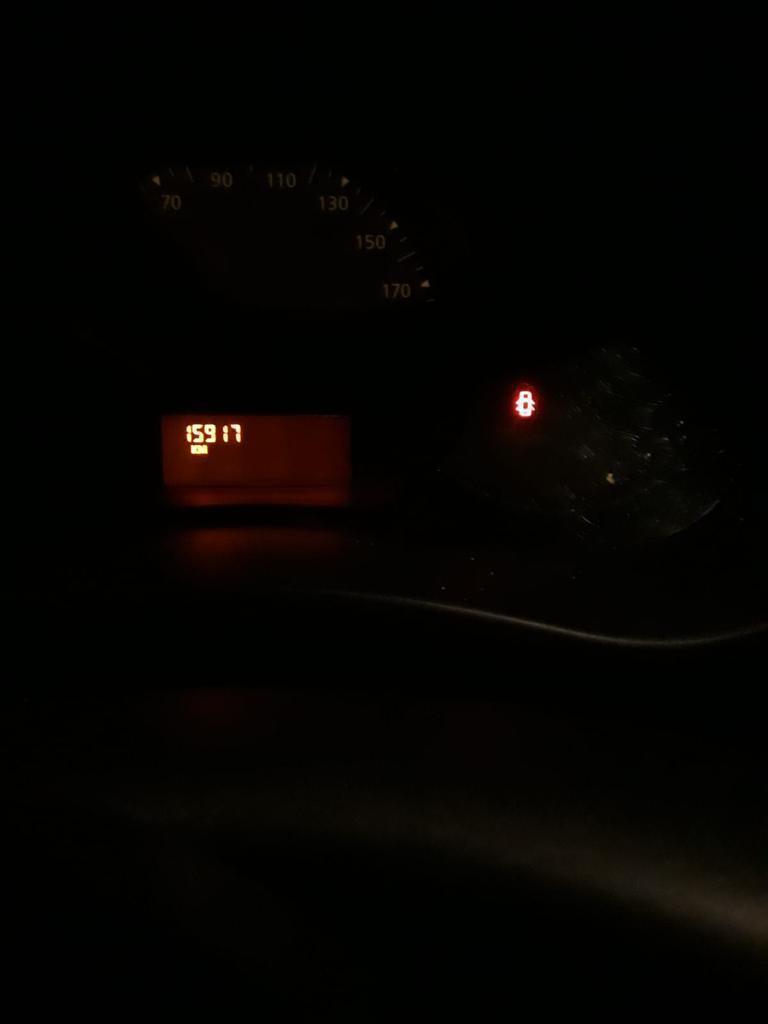1: (222, 424, 229, 443), (185, 424, 191, 442)
5: (191, 423, 204, 443)
7: (230, 423, 241, 443)
9: (203, 423, 216, 443)
X: (198, 444, 208, 454), (190, 444, 198, 454)
odometer: (157, 410, 355, 492)
